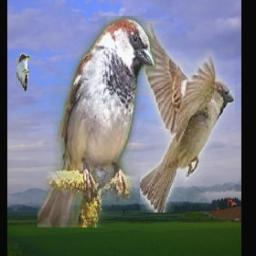Cuckoo: (16, 54, 31, 93)
Sparrow: (37, 16, 156, 227), (140, 22, 235, 214)
